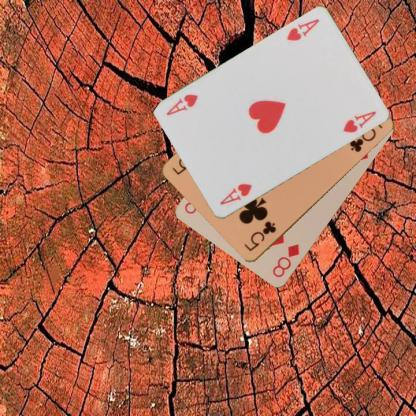5c: (241, 219, 278, 253)
8d: (270, 242, 301, 279)
Ah: (284, 16, 320, 43), (217, 181, 253, 207)
